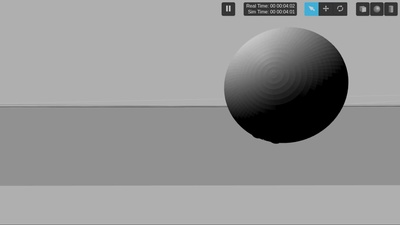mira_robot: (225, 27, 350, 145)
